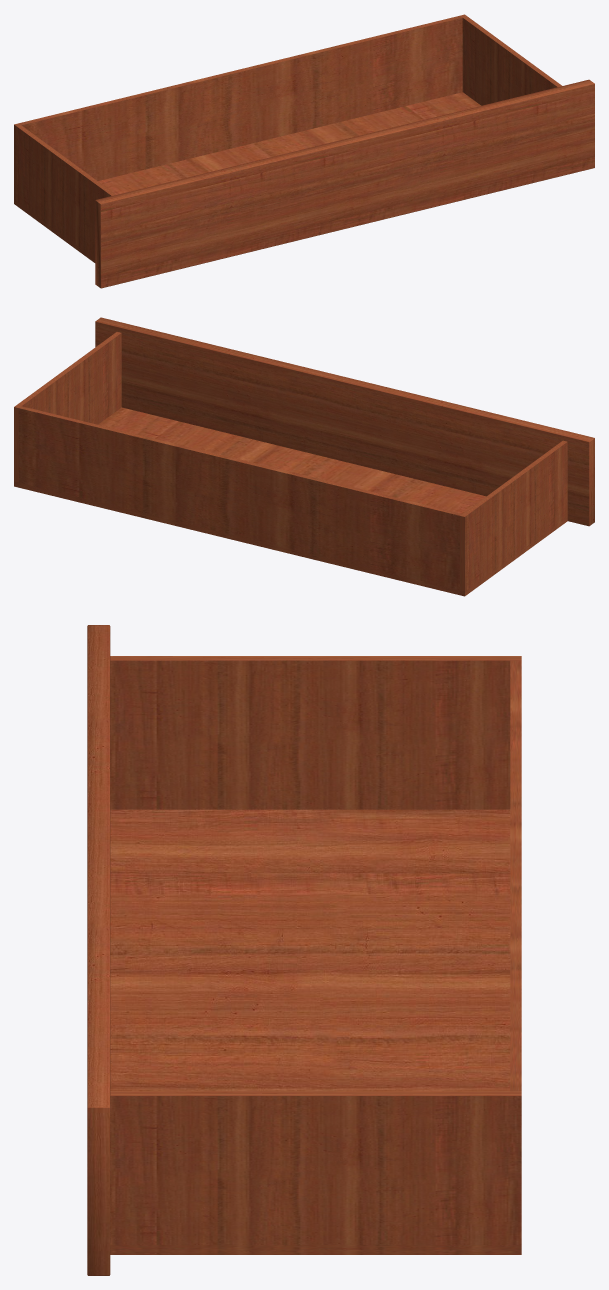
3 renders of one model, top to bottom at view 1: azimuth 30°, elevation 25°; view 2: azimuth 150°, elevation 25°; view 3: azimuth 270°, elevation 25°, orthographic. The views are drawn at different scales.
Visible parts, largest first — view 1: part3:drawer 2; view 2: part3:drawer 2; view 3: part3:drawer 2.
Boxes of the visible parts, left/top/right/bottom form: part3:drawer 2: left=14, top=14, right=594, bottom=288; part3:drawer 2: left=14, top=317, right=594, bottom=596; part3:drawer 2: left=87, top=625, right=521, bottom=1275.
Size of the model in its own units: 1.29 by 0.2102 by 0.4891.
Materials: 1 (1 with a texture image).
